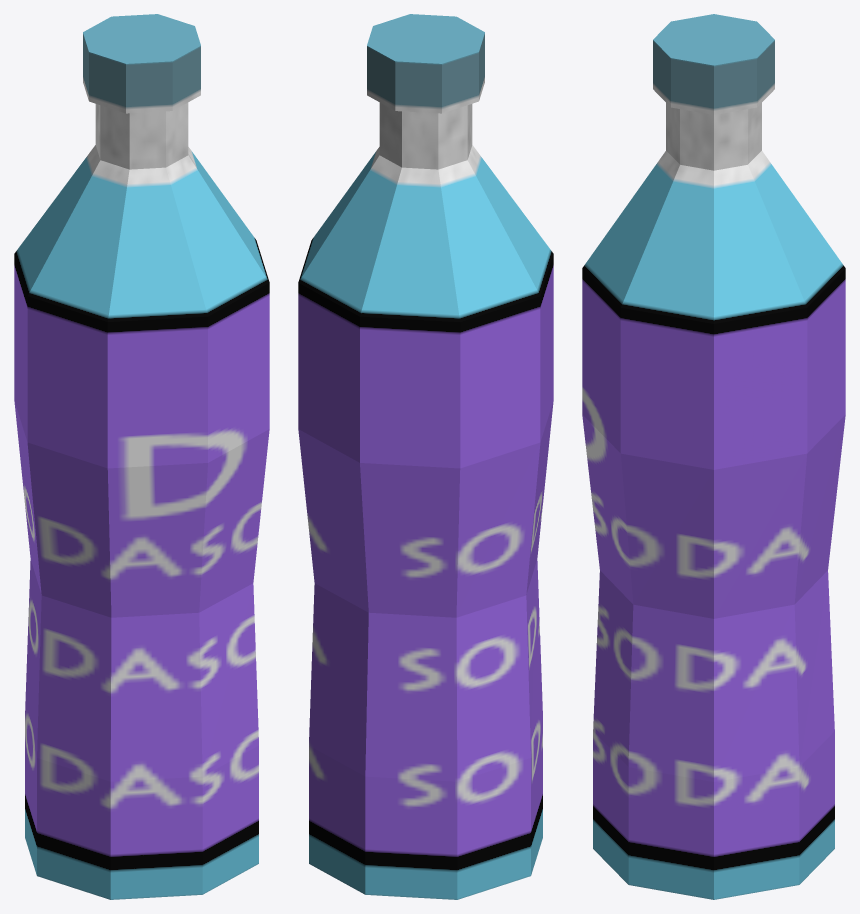
File: bottle 8.FBX
The picture shows the model from 3 angles, left to right: view 1: azimuth 30°, elevation 25°; view 2: azimuth 150°, elevation 25°; view 3: azimuth 270°, elevation 25°; orthographic projection.
Visible parts, largest first — view 1: 礦泉水066; view 2: 礦泉水066; view 3: 礦泉水066.
Part boxes in pixels (x1,y1,x2,y2): 礦泉水066: [14, 14, 269, 899]; 礦泉水066: [298, 14, 553, 899]; 礦泉水066: [582, 14, 845, 899].
Bounding box in the file's own units: 38.33 × 130 × 38.33.
1 material, 1 textured.
